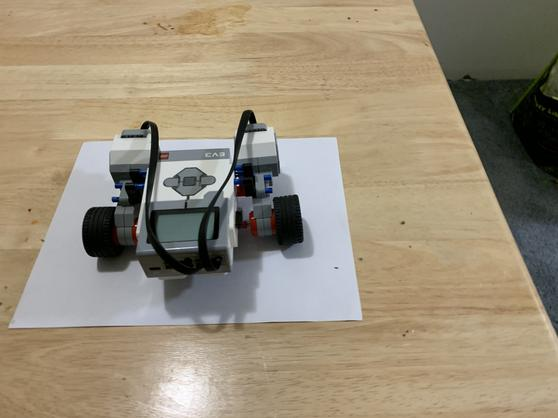robot: (74, 109, 310, 284)
